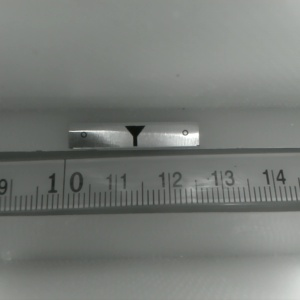0: (69, 172, 83, 193)
1: (48, 173, 58, 193), (262, 169, 269, 185), (119, 174, 126, 189), (106, 174, 112, 190), (158, 172, 164, 188), (211, 171, 217, 186)
2: (171, 172, 181, 187)
3: (224, 171, 234, 186)
4: (276, 169, 287, 185)
9: (0, 178, 8, 195)
finger: (122, 125, 145, 147)
